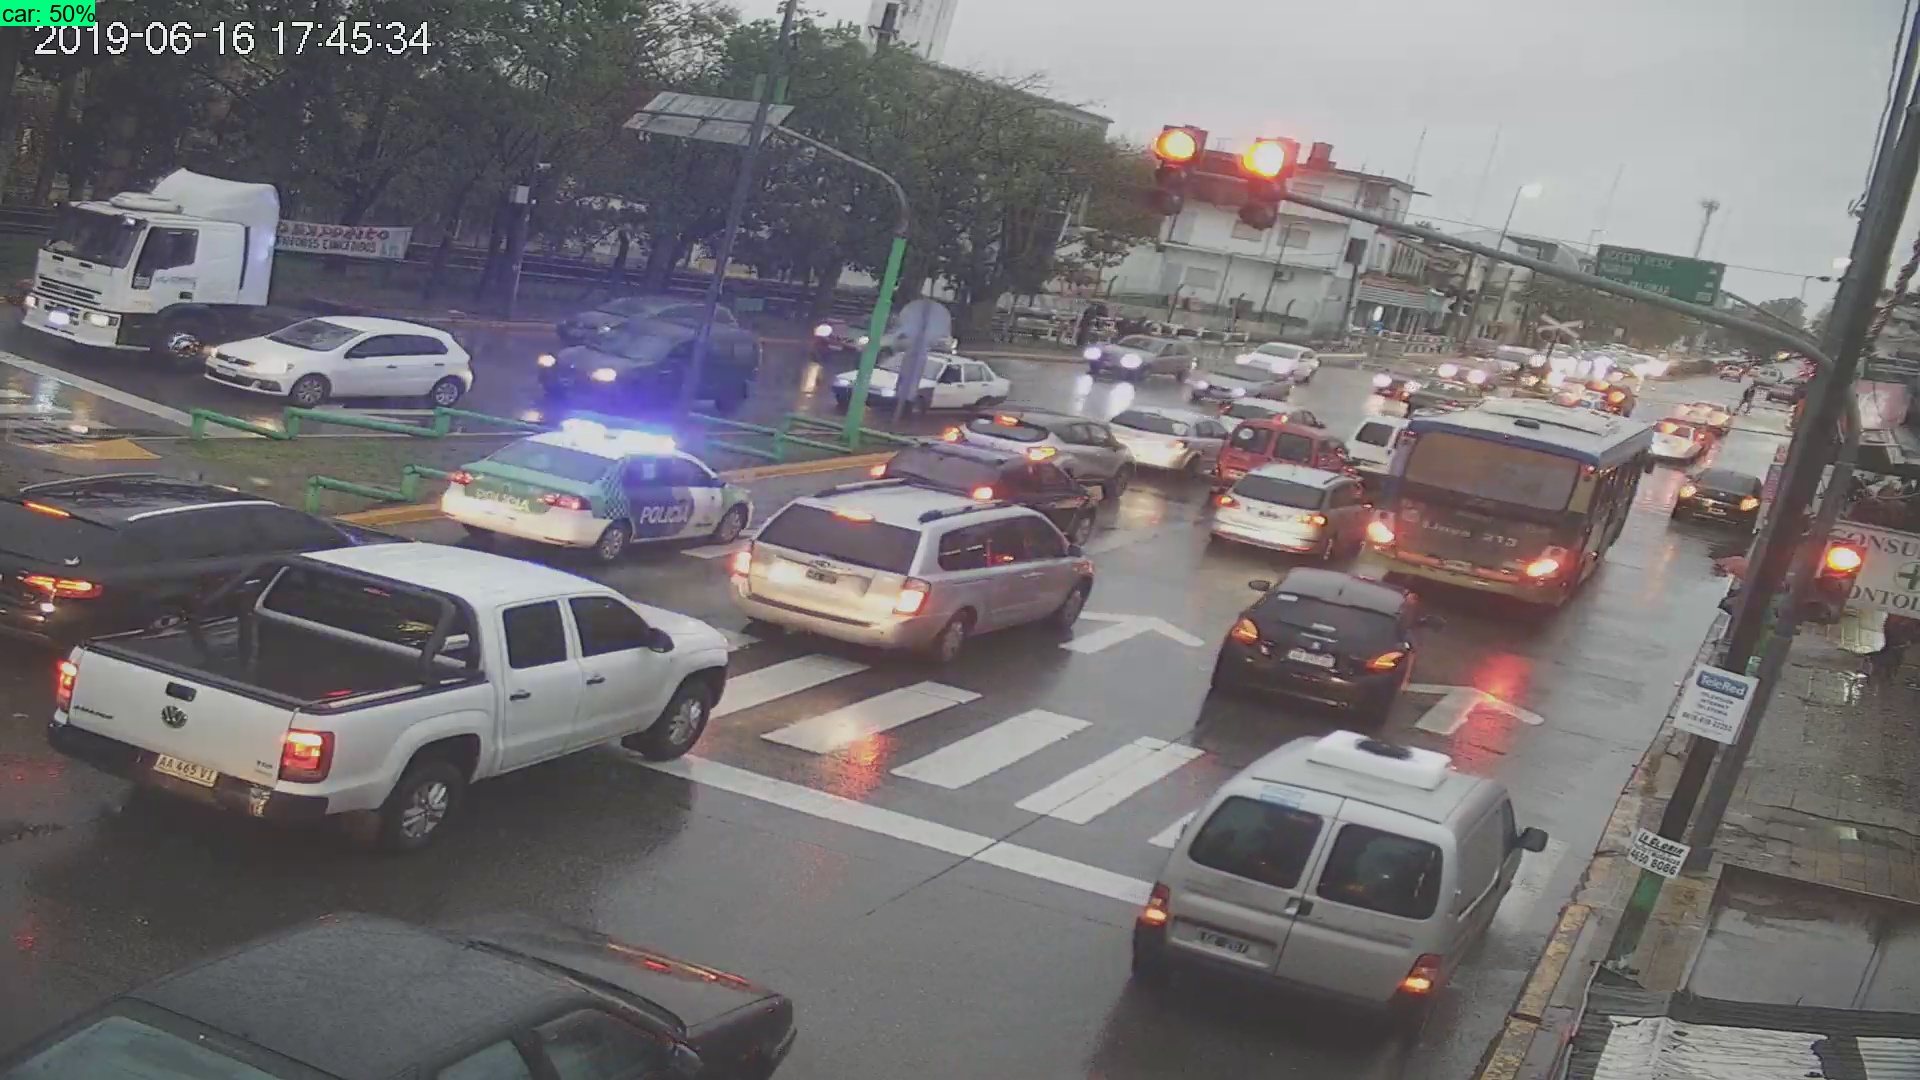car: (59, 534, 740, 872), (1118, 731, 1553, 1052), (735, 475, 1093, 665), (1204, 564, 1436, 736), (200, 305, 472, 423), (502, 311, 754, 413), (1203, 452, 1381, 571), (1672, 454, 1766, 538), (1081, 324, 1197, 388)
police car: (440, 415, 761, 563)
truck: (29, 166, 295, 364)
